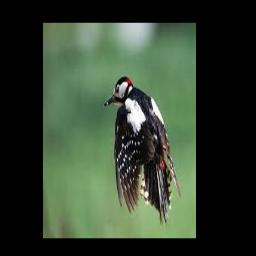Woodpecker: (103, 76, 180, 227)
